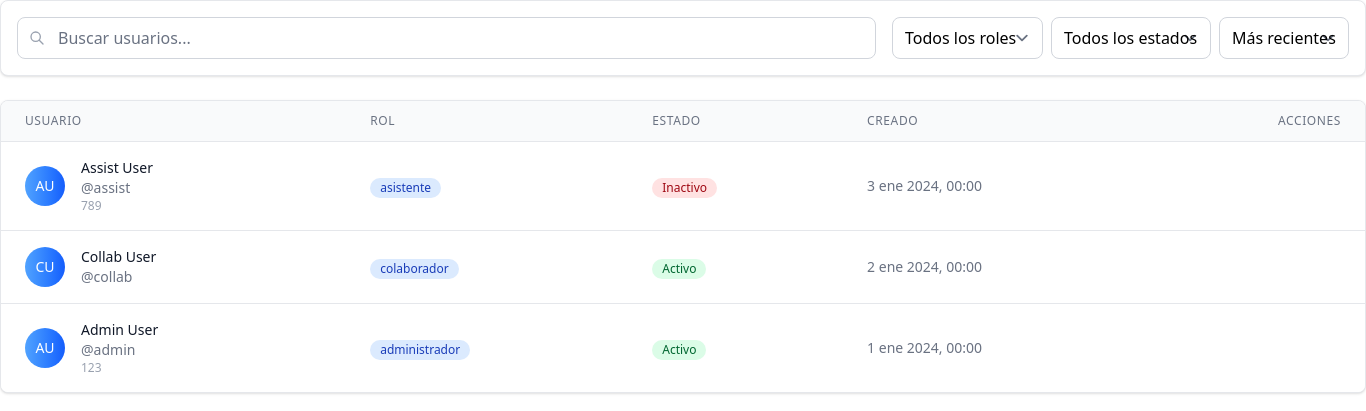
Test case: UserList › Search and Filters › should filter by role
The width and height of the screenshot is (1366, 411).
Step 1. Select "Administradores" in the 1st dropdown → (968, 38), box [892, 17, 1043, 59]
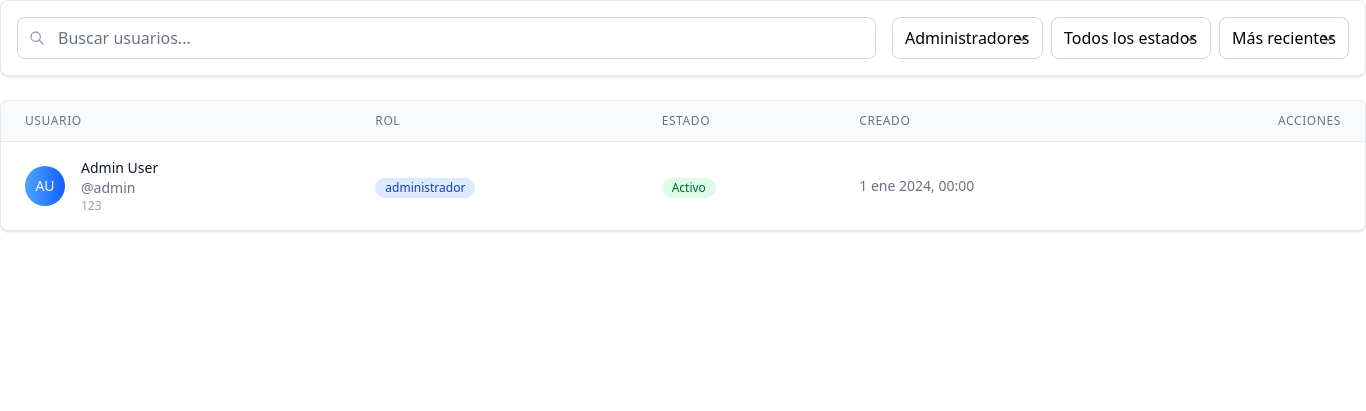
Now the text "Admin User" is shown, box [81, 158, 158, 178]
Now the text "Collab User" is gone
